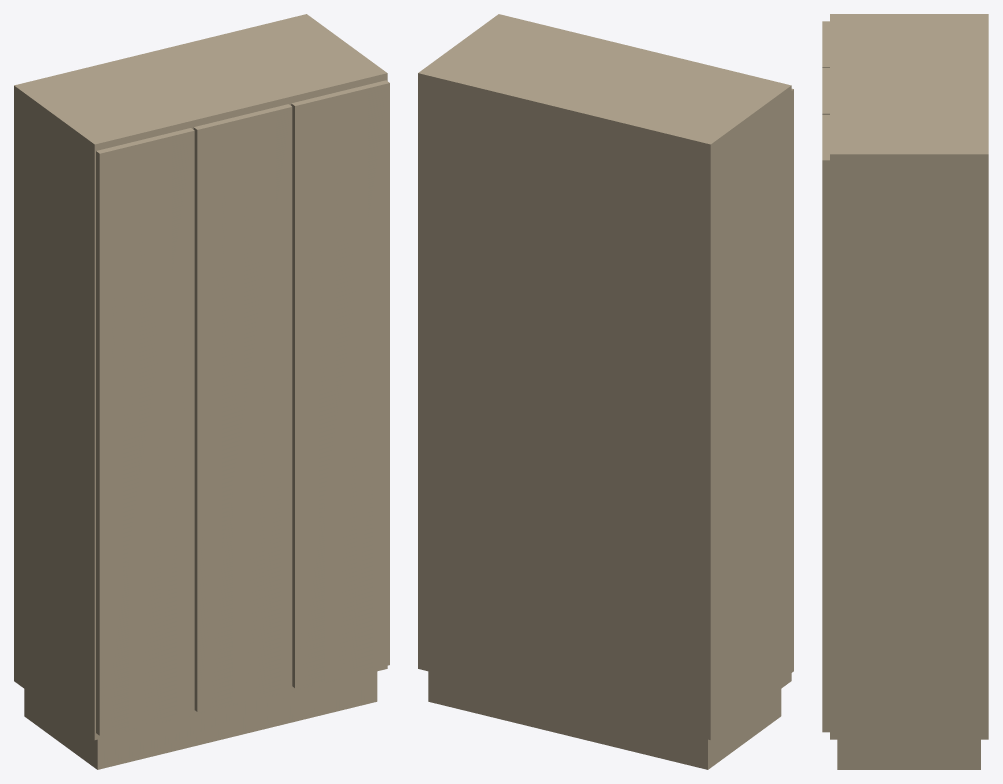
File: lockers-lod1.glb
3 views of the same model, side by side, from view 1: azimuth 30°, elevation 25°; view 2: azimuth 150°, elevation 25°; view 3: azimuth 270°, elevation 25° (orthographic).
Parts seen in each view (by area): view 1: lockers-lod1; view 2: lockers-lod1; view 3: lockers-lod1.
Boxes of the visible parts, box(x1,y1,x2,y2) form: lockers-lod1: box(14, 14, 389, 769); lockers-lod1: box(418, 14, 793, 769); lockers-lod1: box(822, 14, 988, 769).
Size of the model in its own units: 0.9 by 1.85 by 0.45.
